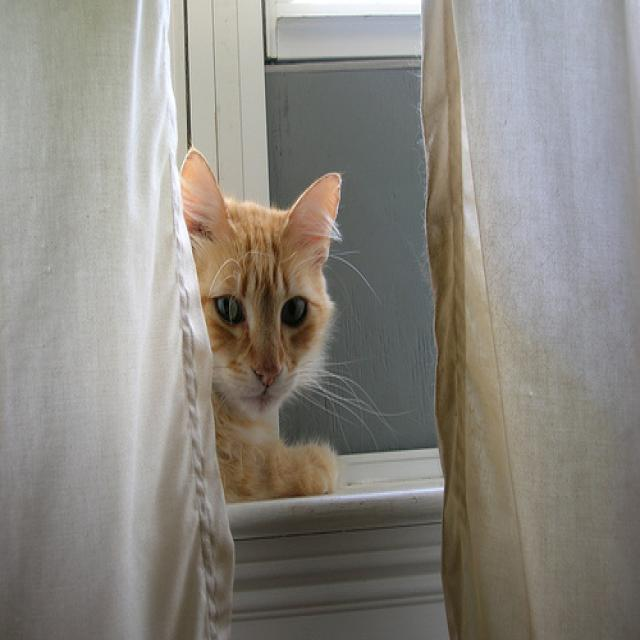cat: (178, 143, 403, 504)
